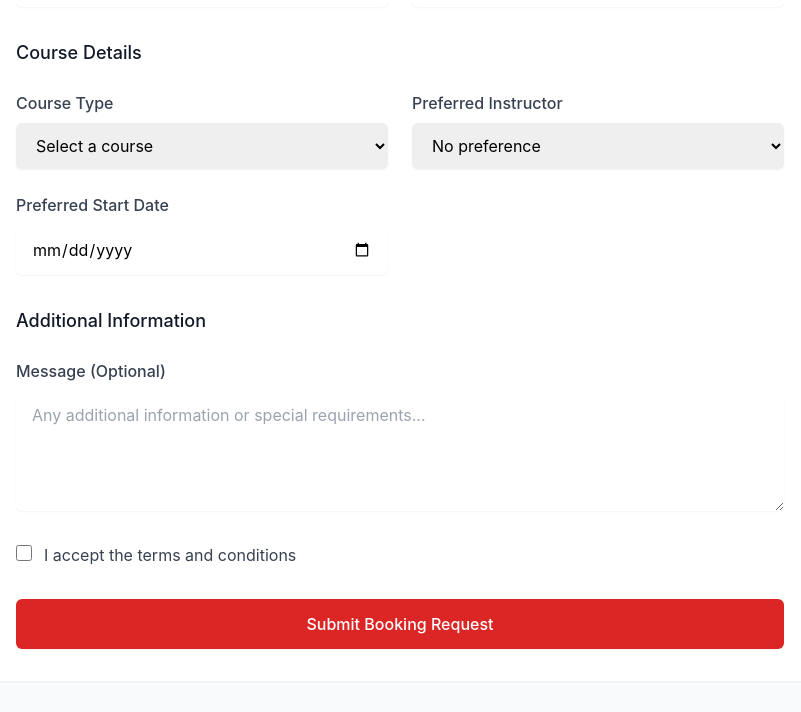
Test: BookingForm › shows validation errors for empty required fields
(page scrolled)
Click the button "Submit Booking Request" at (400, 624), box x1=16 y1=599 x2=784 y2=649
(page scrolled)
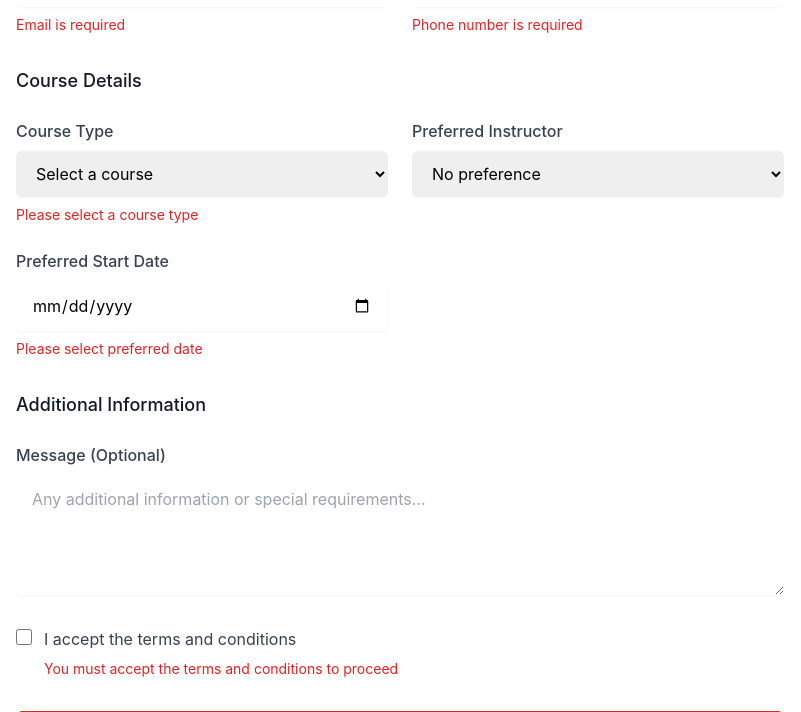
Expected: the text "Email is required" is shown, x1=16 y1=16 x2=125 y2=33
Expected: the text "Phone number is required" is shown, x1=412 y1=16 x2=583 y2=33
